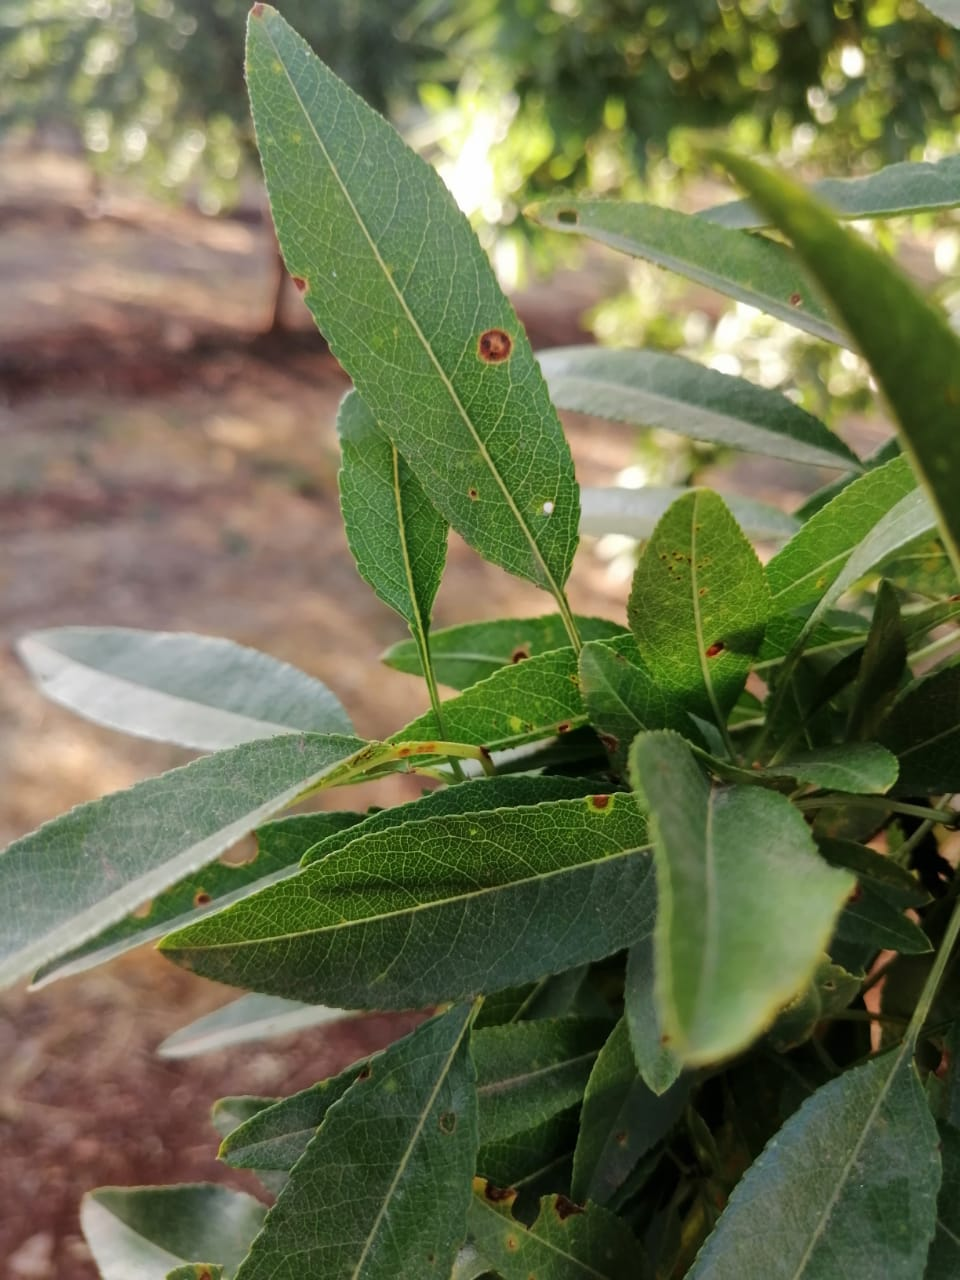coryneum: (245, 2, 582, 596), (148, 791, 659, 1014), (628, 491, 772, 723)
